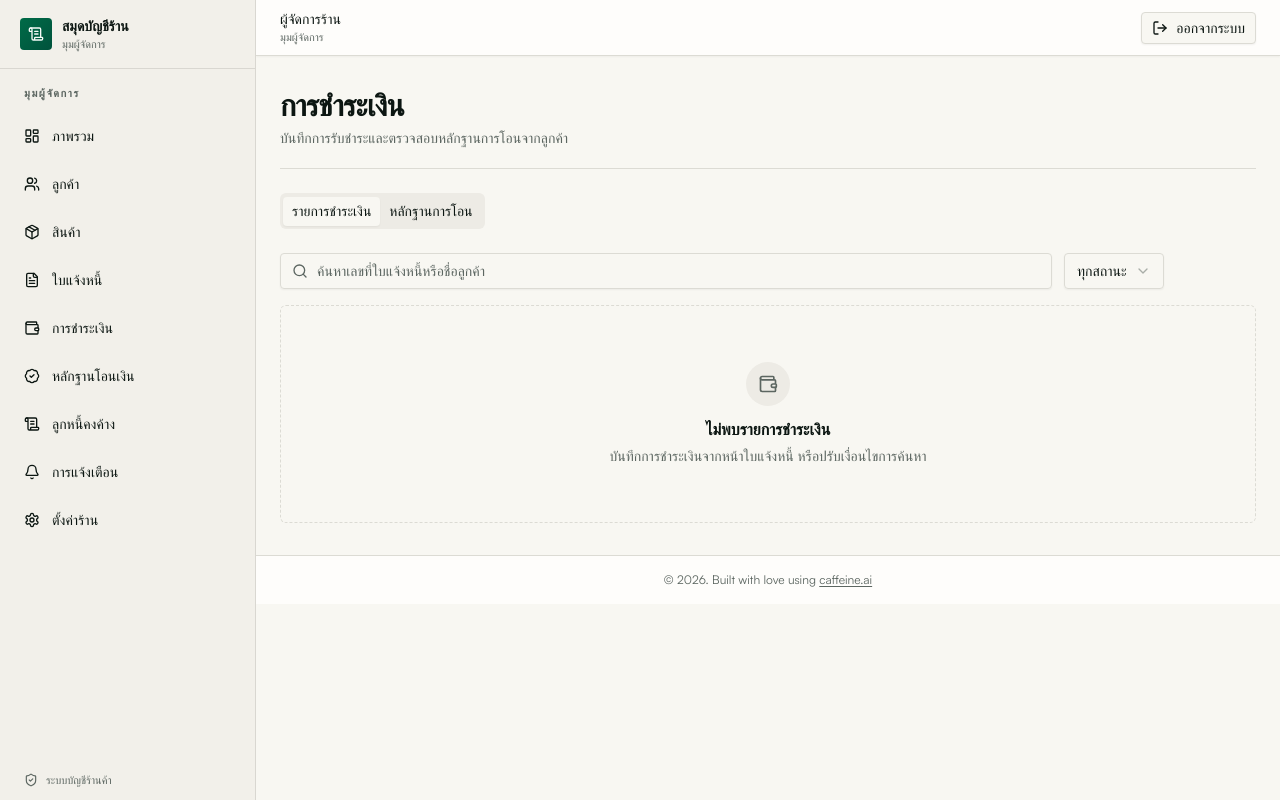
it: PaymentsPage › lists transfer proofs awaiting review in the proofs tab
Click the tab with test id "payments.proofs_tab".
click(431, 211)  # box [380,196,482,226]
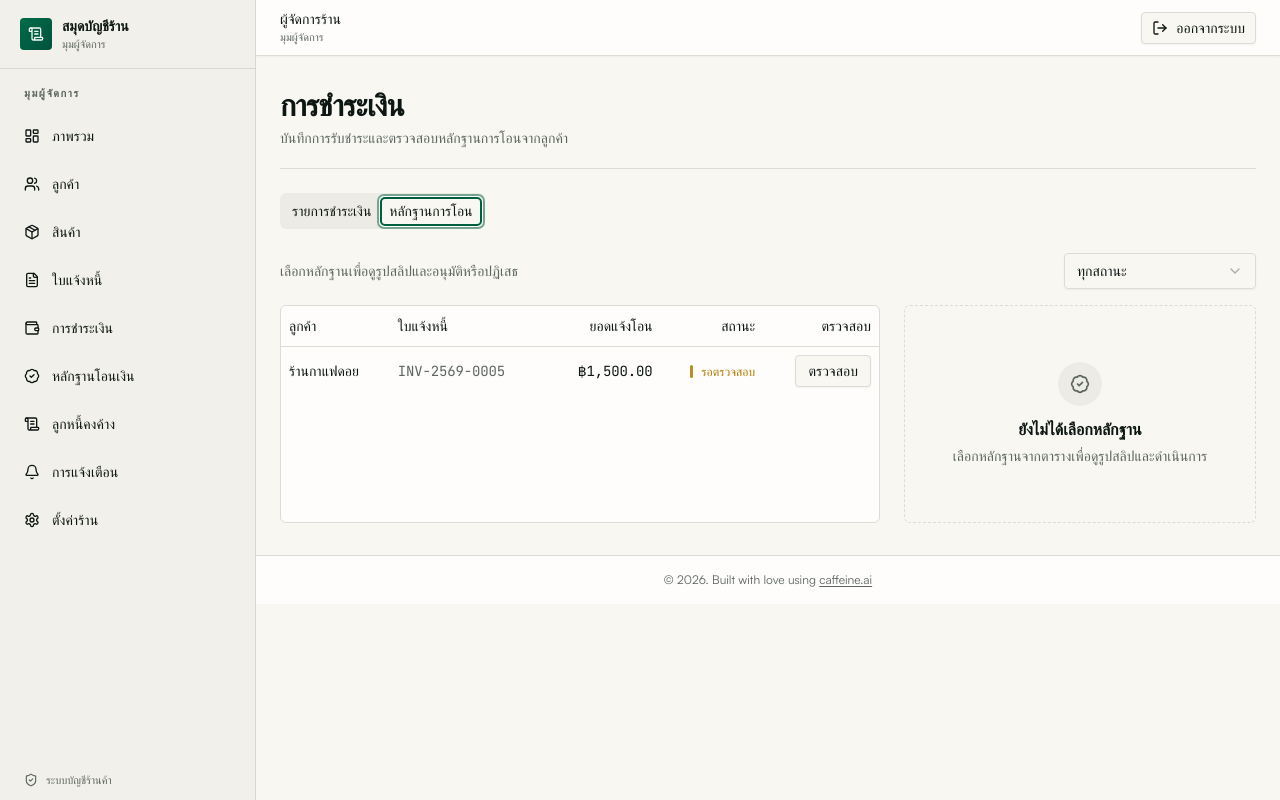
Expected: the text "ร้านกาแฟดอย" is shown, [281,346,390,394]
Expected: the text "INV-2569-0005" is shown, [390,346,546,394]
Expected: the text "฿1,500.00" is shown, [546,346,661,394]
